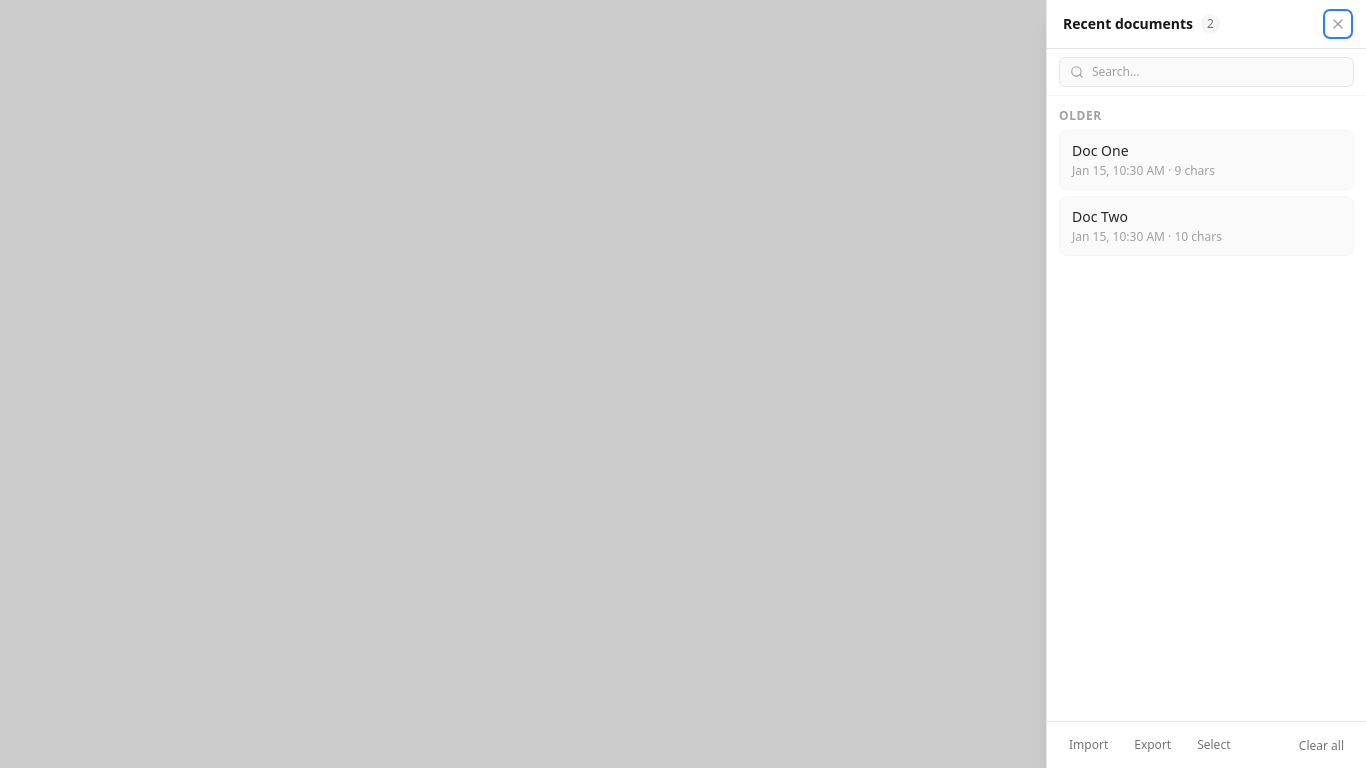
HistorySidebar — select mode & bulk delete › exits select mode automatically after bulk delete
Click the button with aria-label "enter bulk selection mode". click: (1214, 745)
box: [1187,733,1240,757]
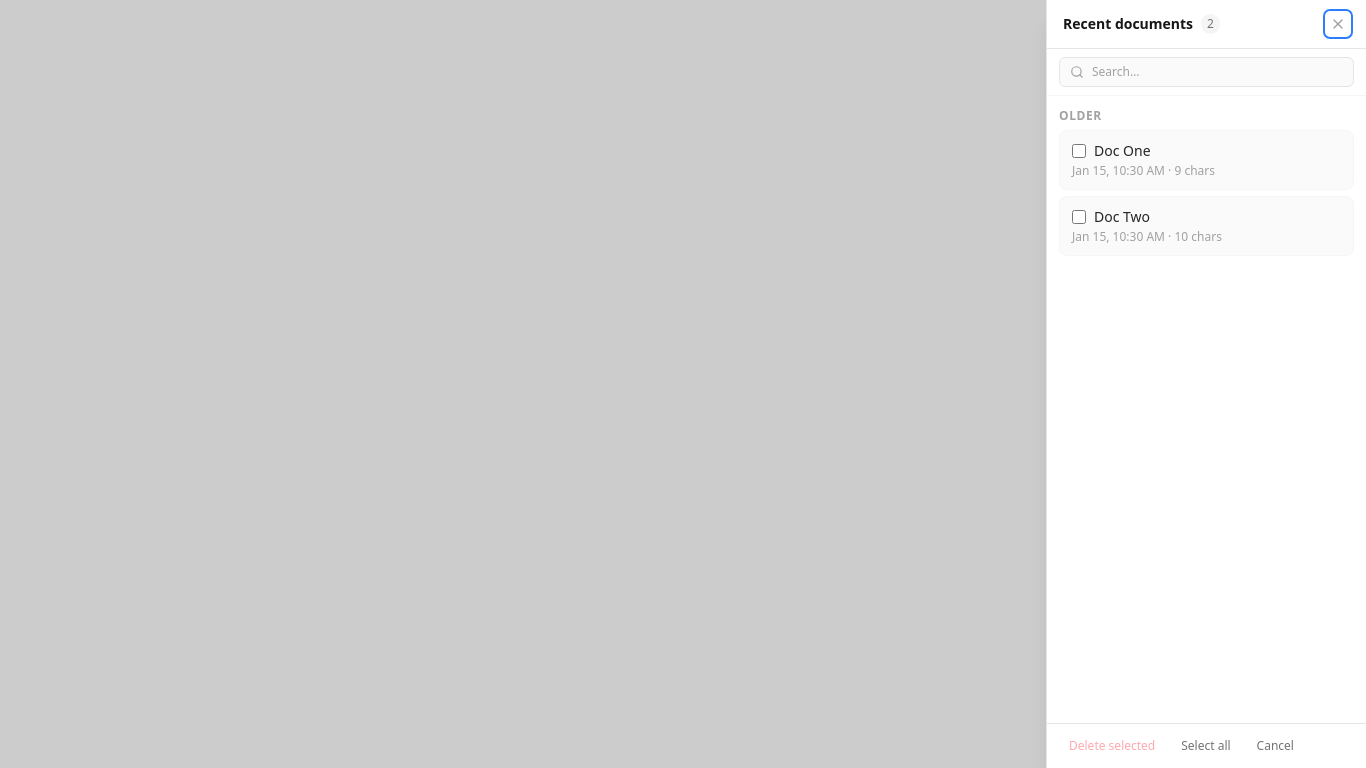
Click the checkbox named "select \"Doc One\"". click: (1079, 151)
box: [1072,144,1086,158]
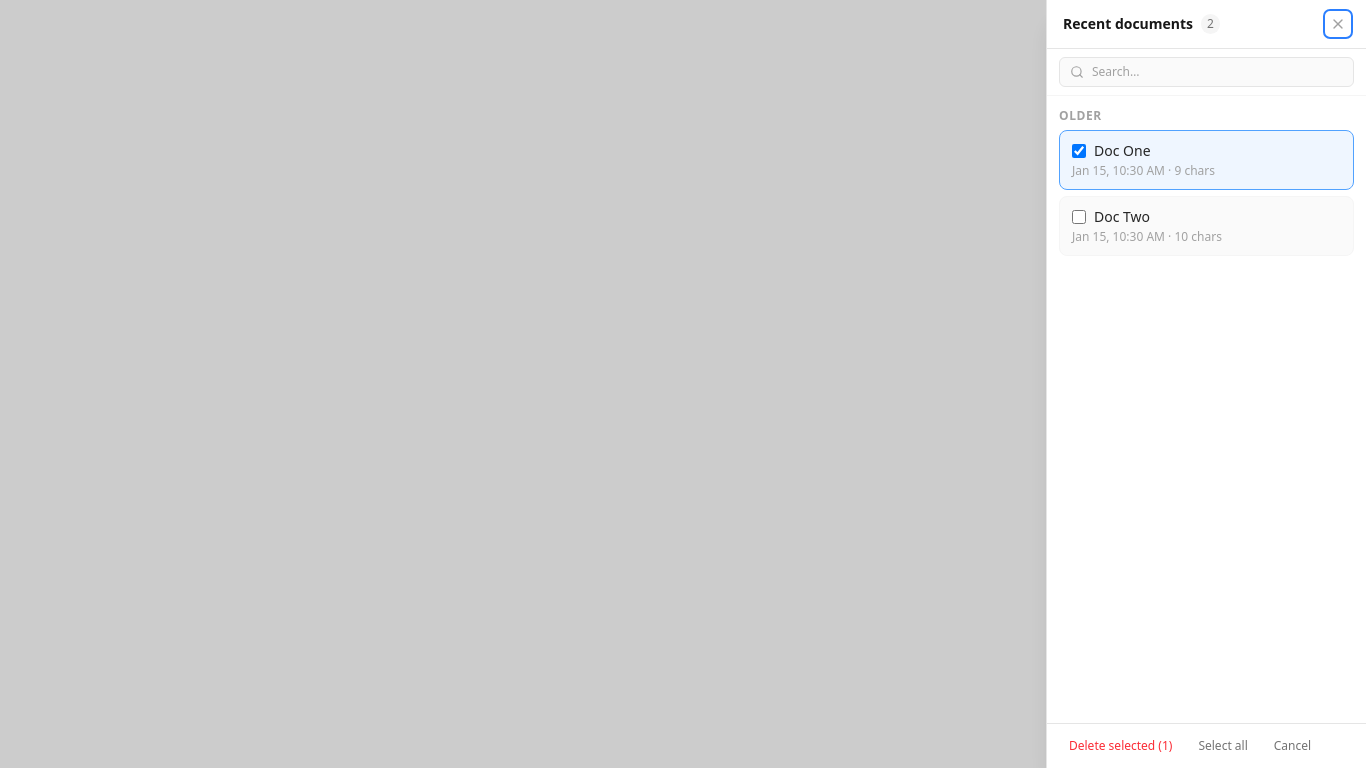
Click the button "Delete selected (1)". click: (1121, 746)
box: [1059,734,1182,758]
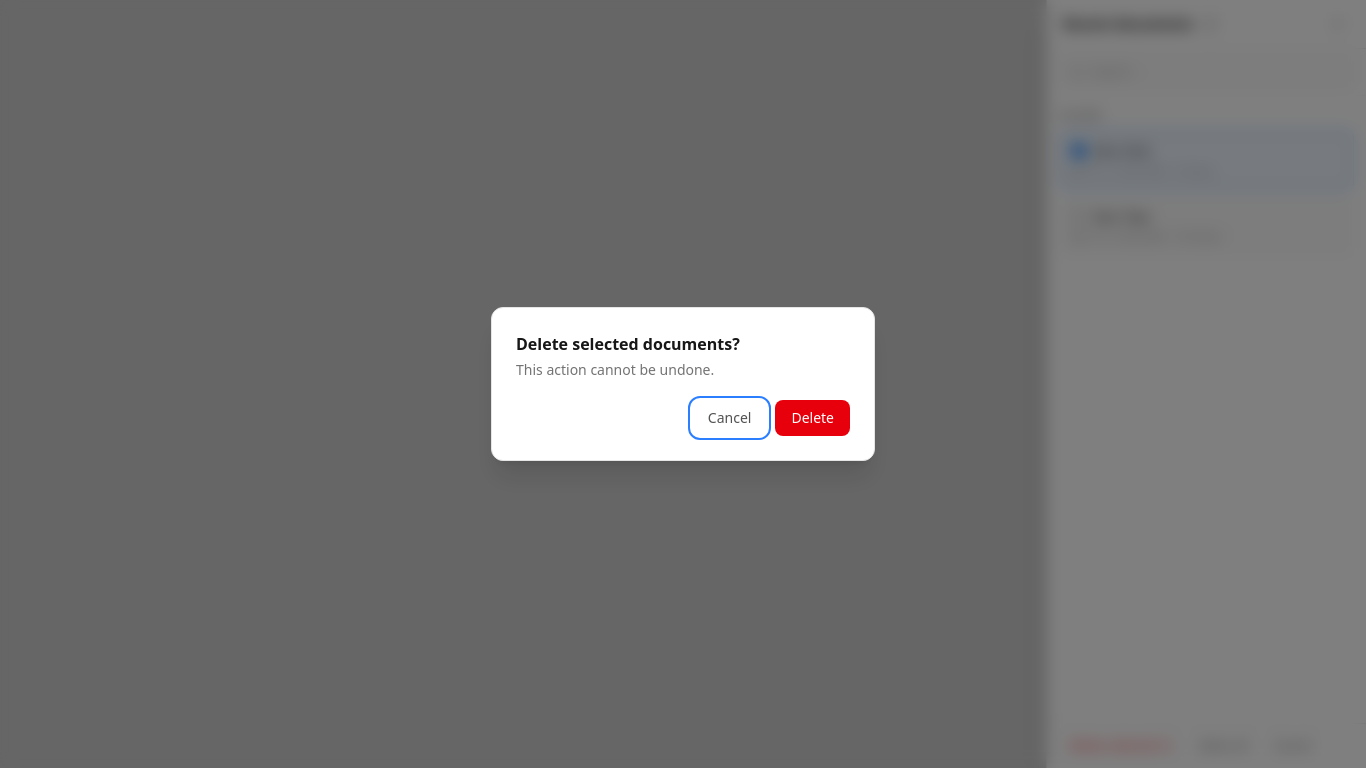
Click the button "Delete". click: (813, 418)
box: [775,400,850,436]
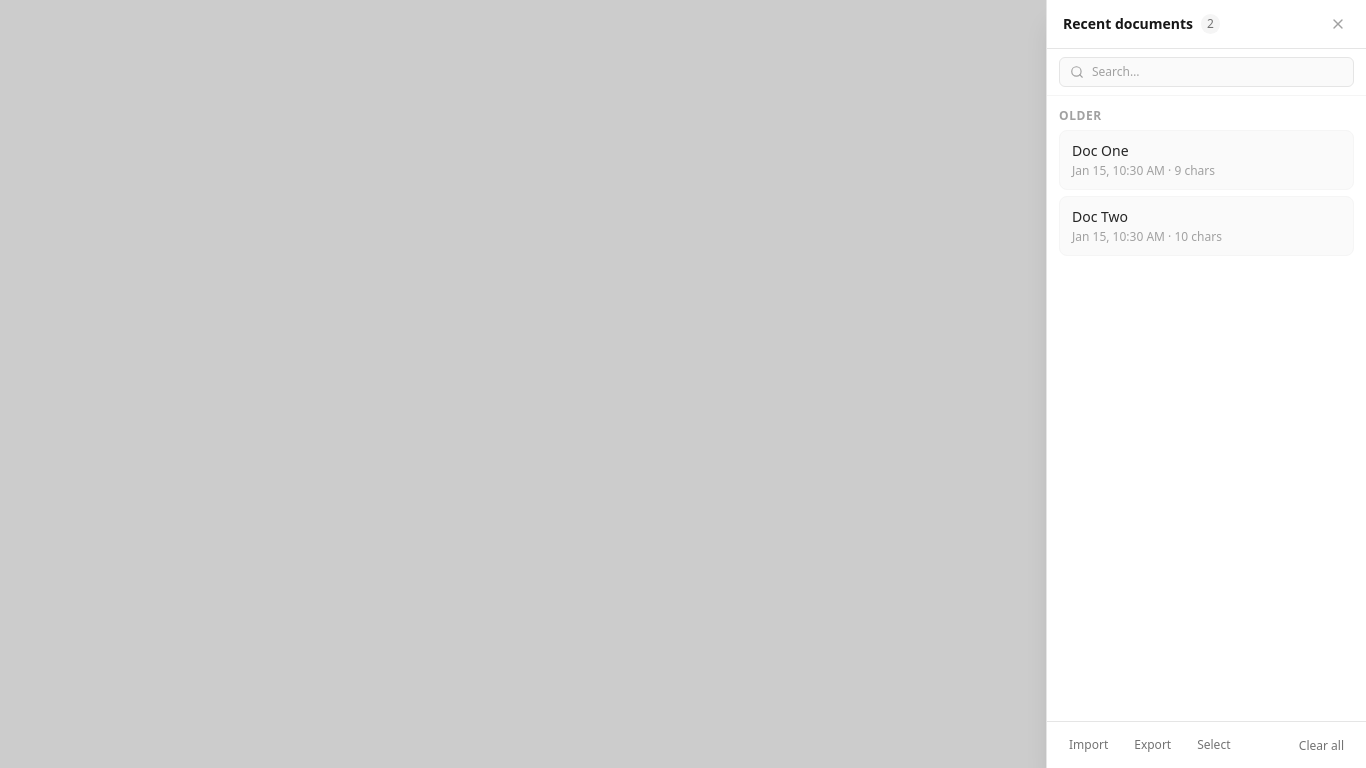
Expected: the button "Cancel" is gone
